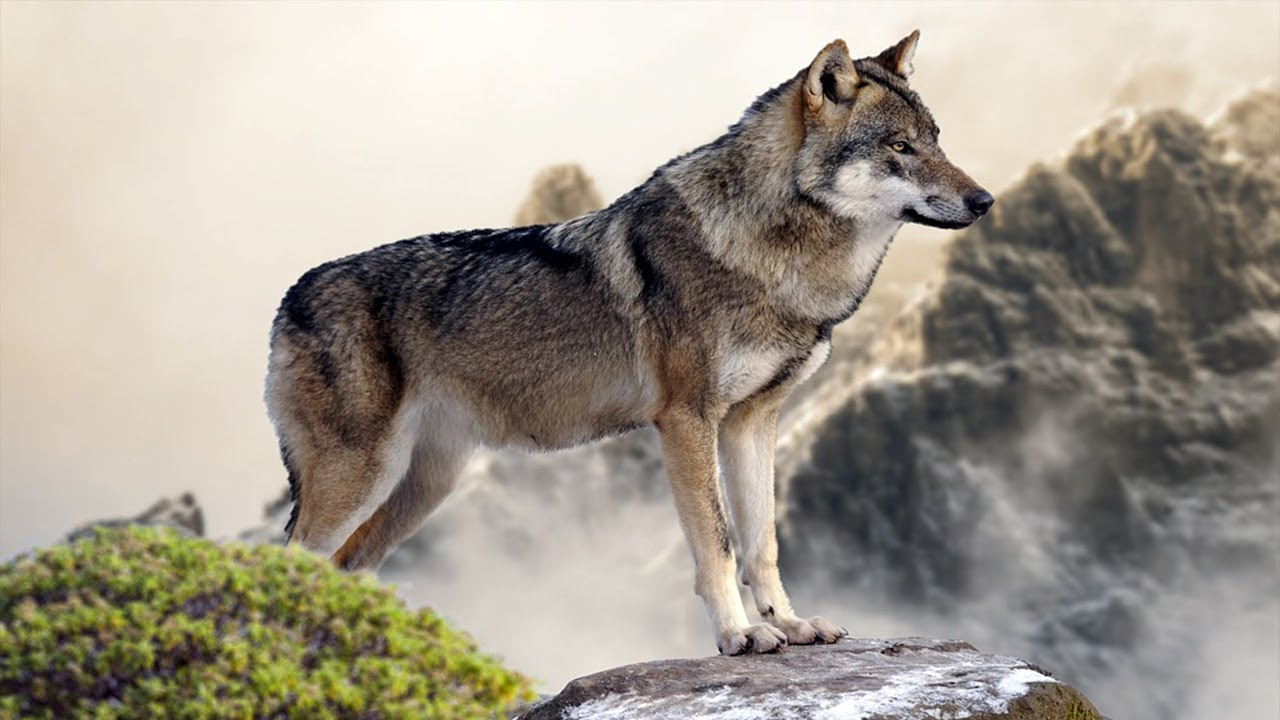Lobo: (263, 27, 993, 633)
